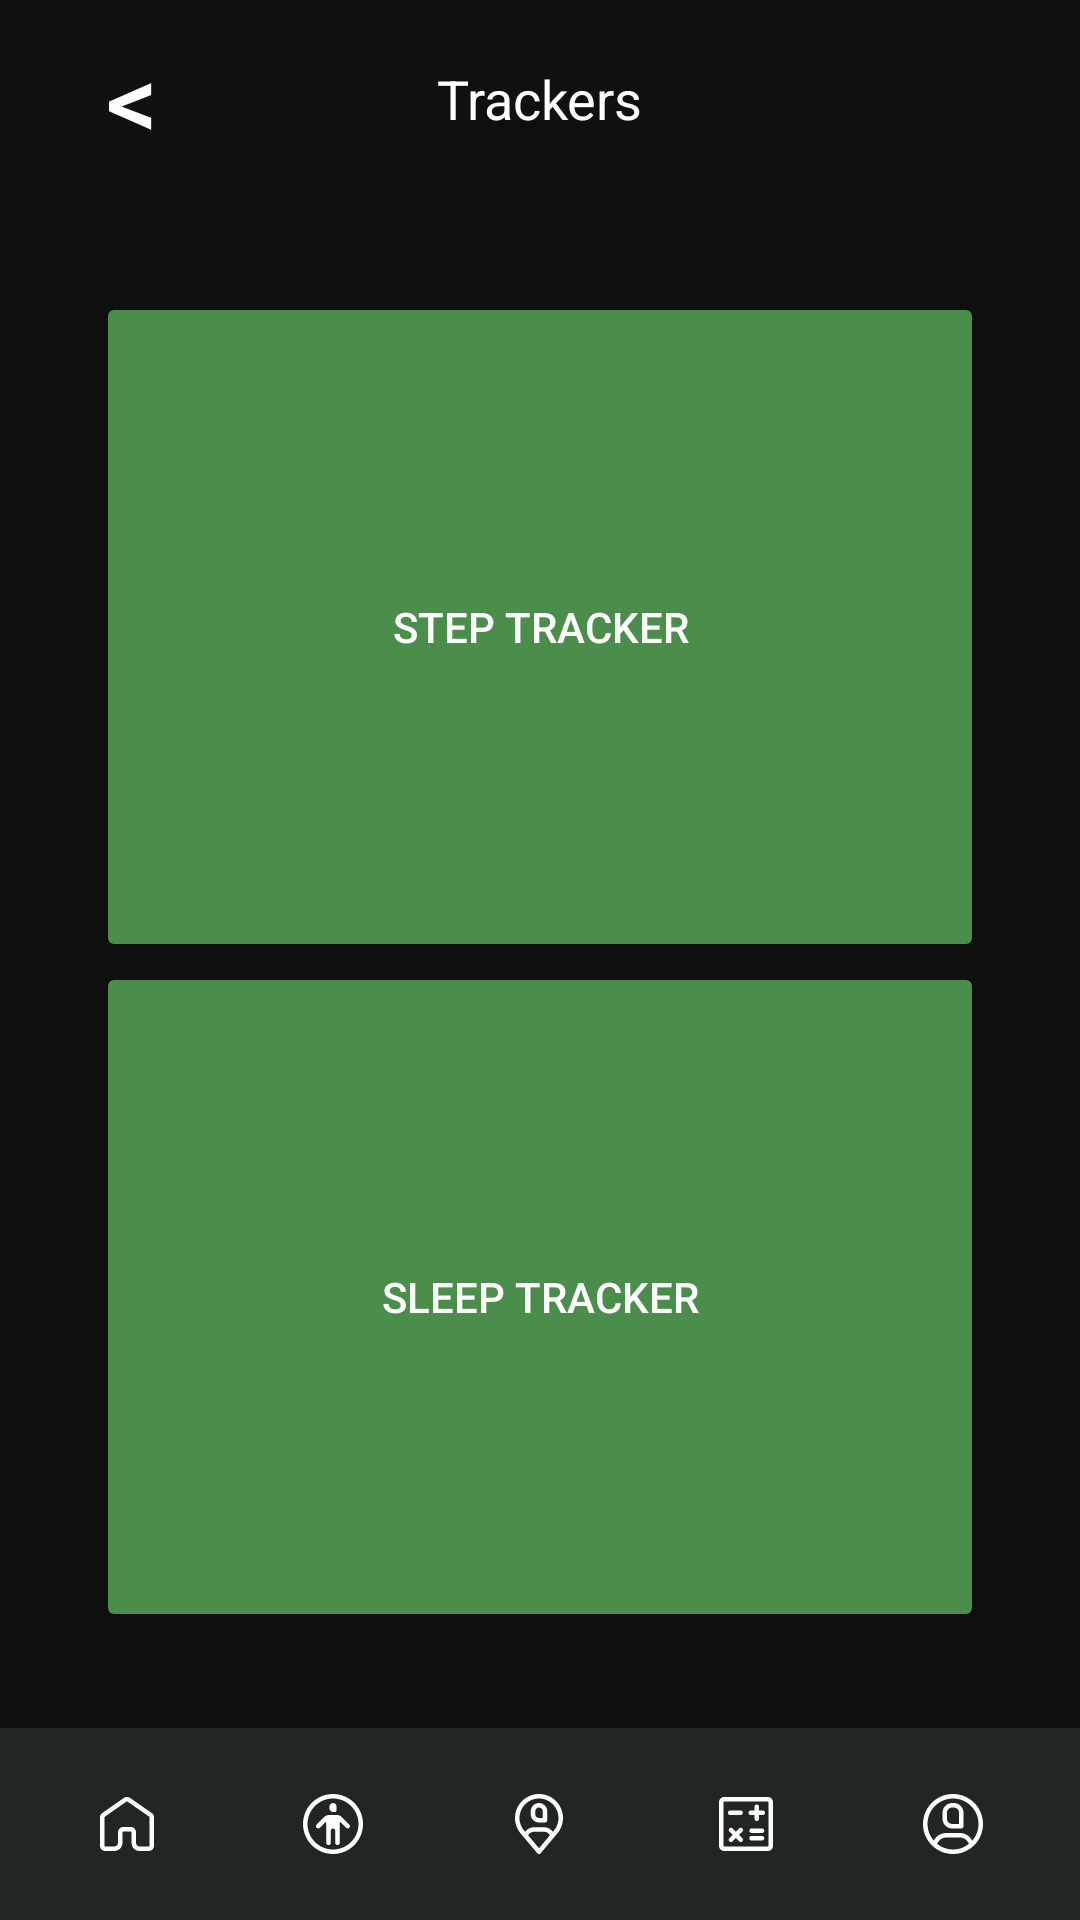

Screen size 1080px x 1920px. Icon name, then its center in pixels as (x,y):
system account: (953,1824)
system calculate: (746,1824)
system home: (127,1824)
system location user: (539,1824)
